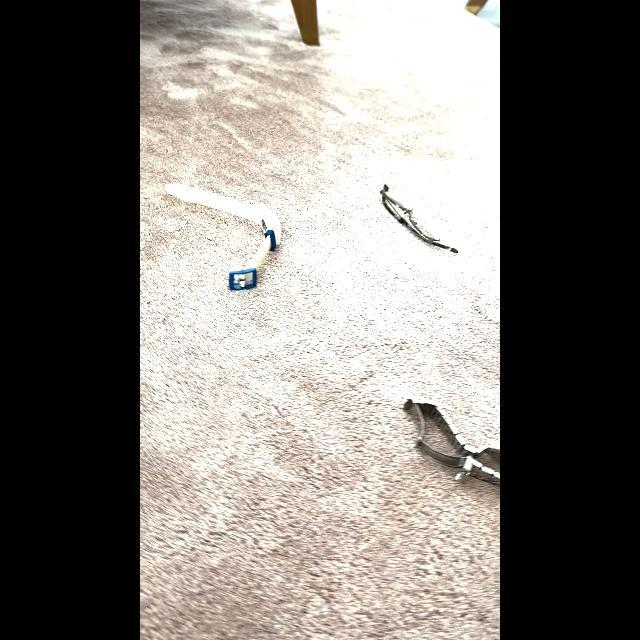eyewear: (367, 178, 467, 256)
